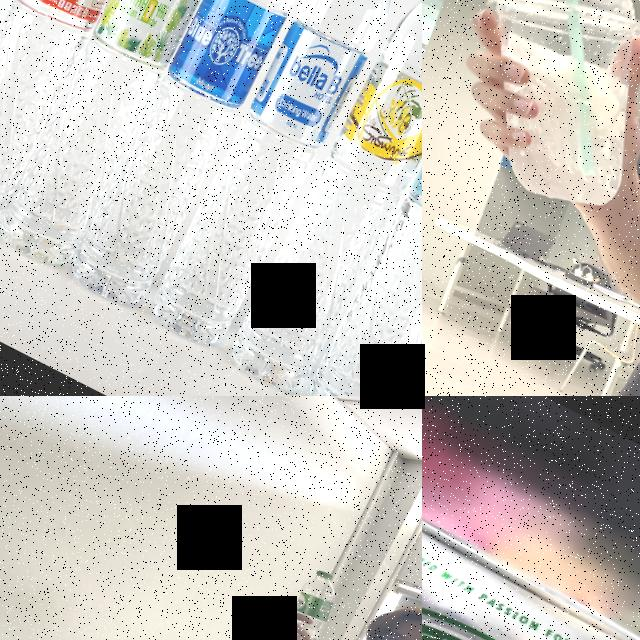bottle: (140, 0, 422, 359), (56, 0, 355, 321), (218, 0, 422, 396), (0, 0, 274, 274), (297, 0, 422, 396), (0, 0, 204, 242), (269, 564, 353, 640)
can: (422, 493, 640, 640)
cup: (422, 0, 640, 229)
